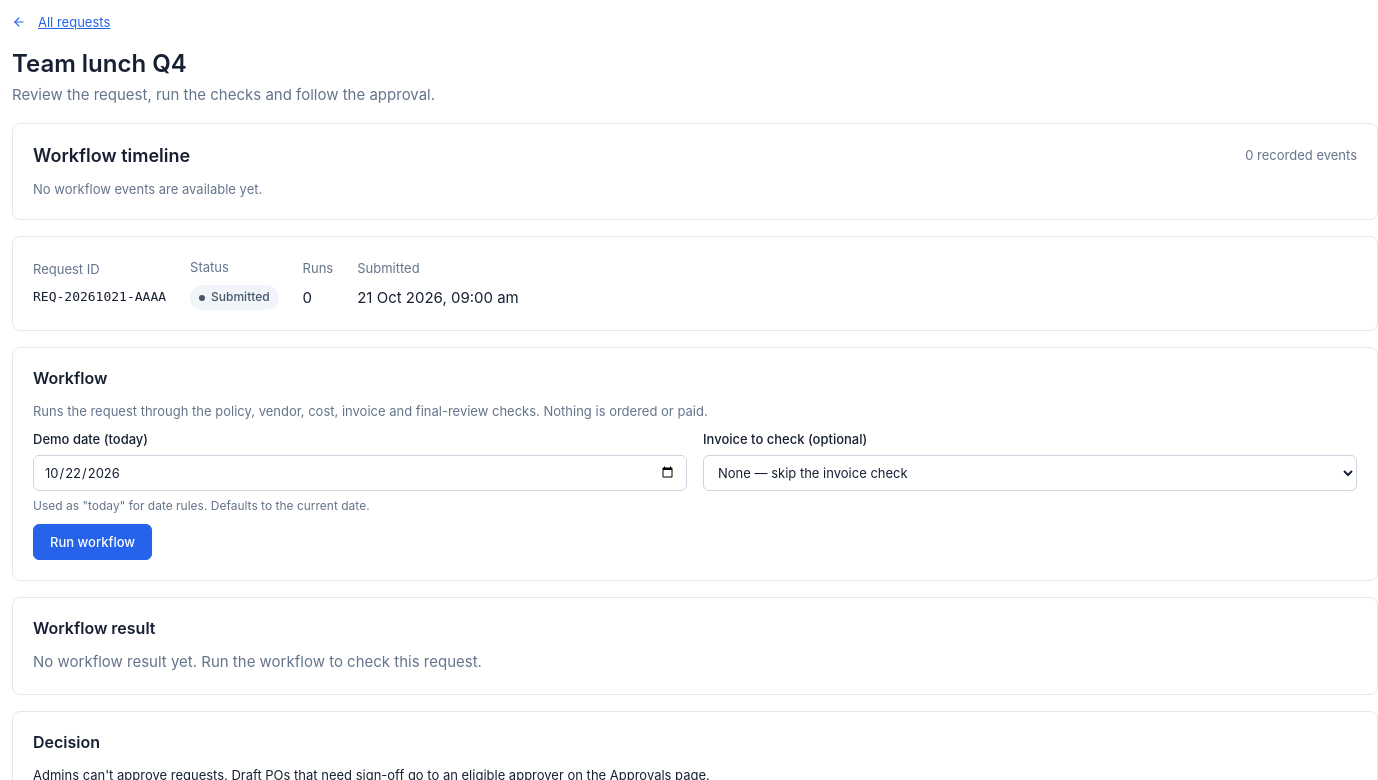
it: AdminRequestDetailPage › runs the workflow with an optional invoice and today's demo date, then shows readable steps
Check: the text with test id "ticket-id" reads "REQ-20261021-AAAA", box [33,290,166,304]
Check: the text "No workflow result yet" is shown, box [33,652,482,672]
Select "INV-5002 · V-1" in the dropdown labelled "Invoice to check (optional)" at [1030, 473], box [703,455,1357,491]
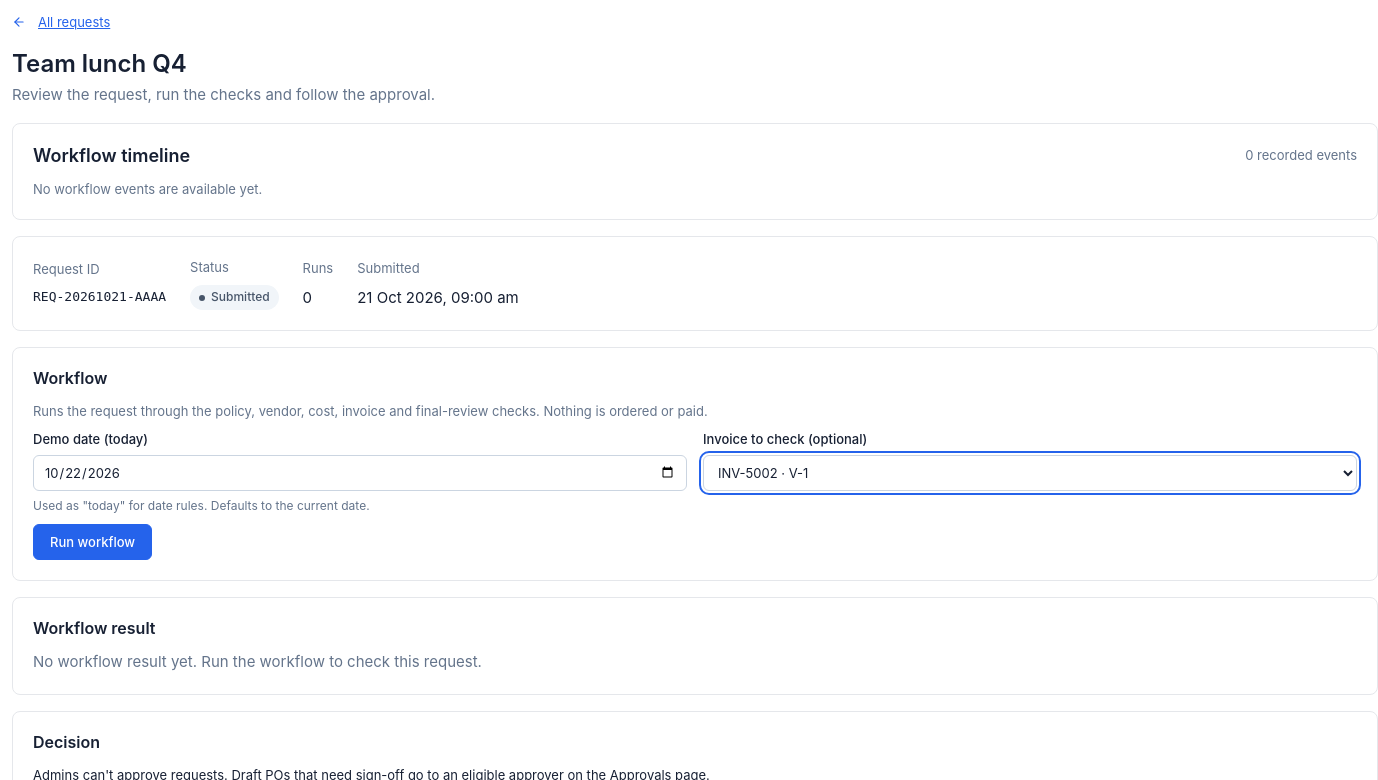
Click the button "Run workflow" at [93, 542], box [33,524,152,560]
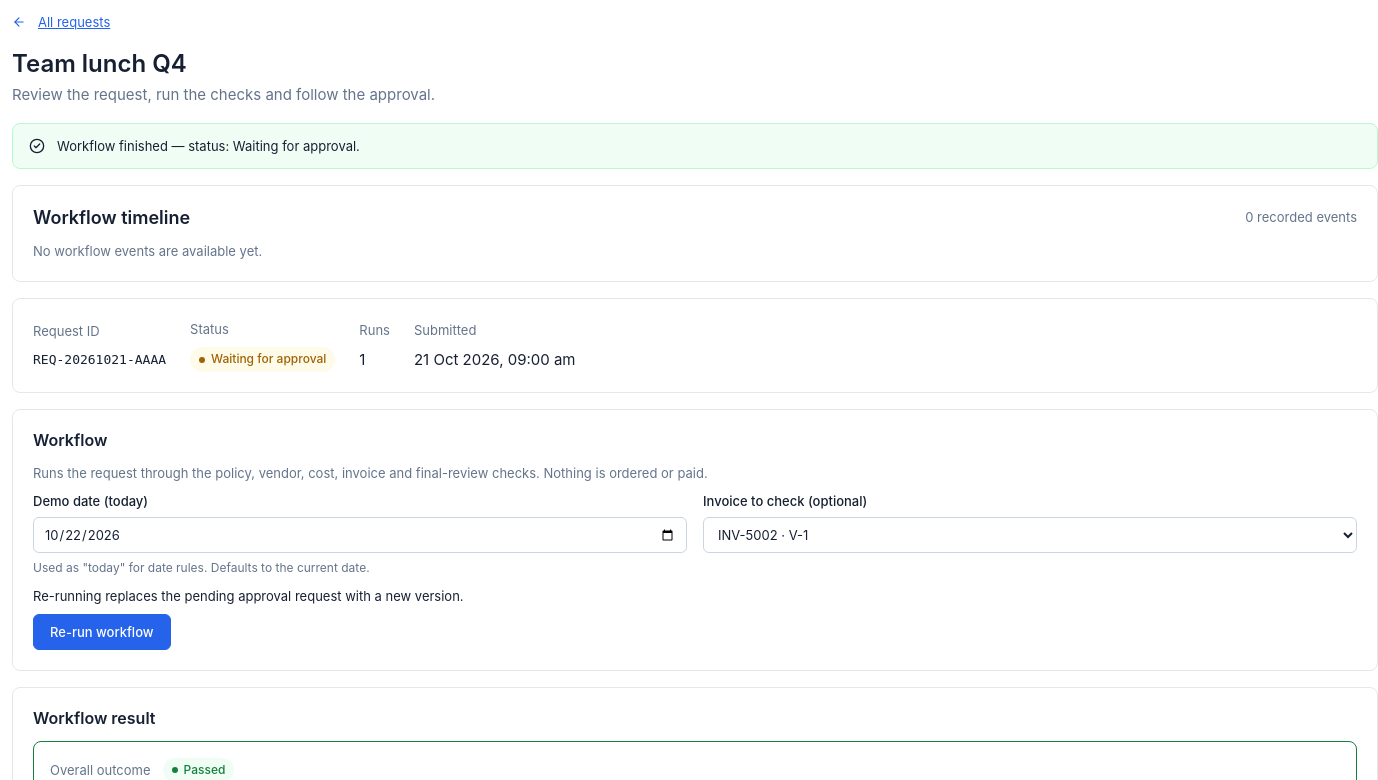
Check: the text "Workflow finished — status: Waiting for approval." is shown, box [57,136,360,156]
Check: the text with test id "overall-outcome" reads "Passed", box [184,762,225,777]
Check: the button "Re-run workflow" is shown, box [33,614,171,650]
